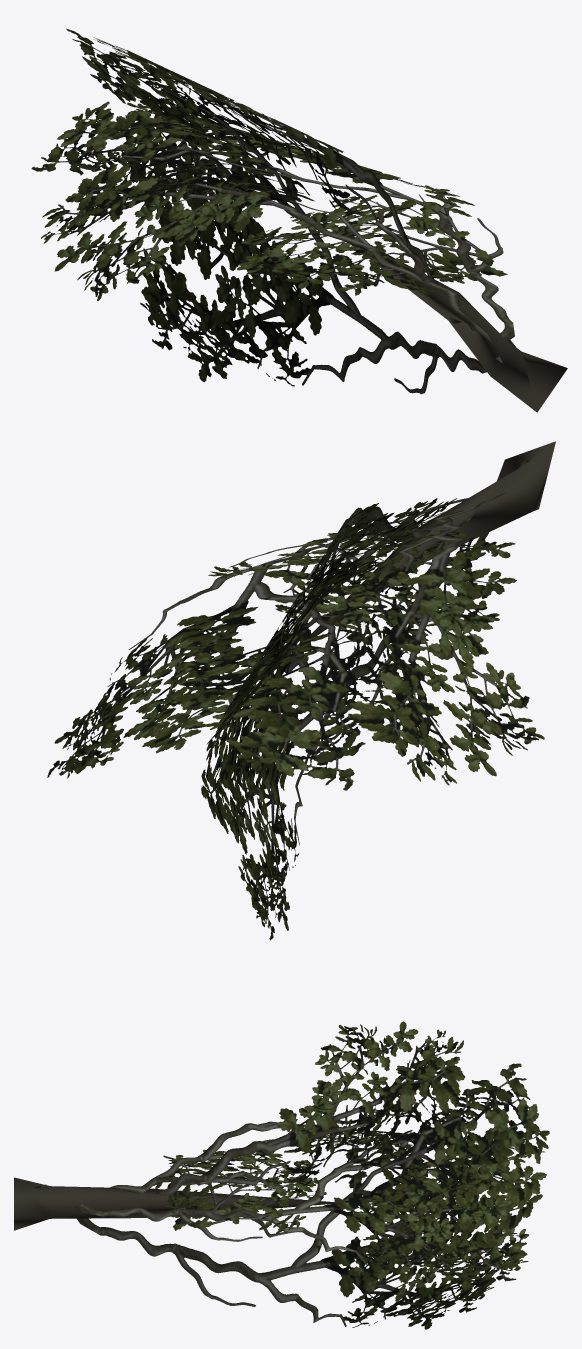
Rendered from MEP_Oak_03_LOD_02.fbx.
3 renders of one model, top to bottom at view 1: azimuth 30°, elevation 25°; view 2: azimuth 150°, elevation 25°; view 3: azimuth 270°, elevation 25°, orthographic. The views are drawn at different scales.
Visible parts, largest first — view 1: MEP_Oak_03_LOD_02; view 2: MEP_Oak_03_LOD_02; view 3: MEP_Oak_03_LOD_02.
Part boxes in pixels (bbox=[...]): MEP_Oak_03_LOD_02: bbox=[31, 28, 567, 412]; MEP_Oak_03_LOD_02: bbox=[47, 441, 555, 940]; MEP_Oak_03_LOD_02: bbox=[14, 1021, 549, 1329].
Bounding box in the file's own units: 12.67 × 12.35 × 21.29.
